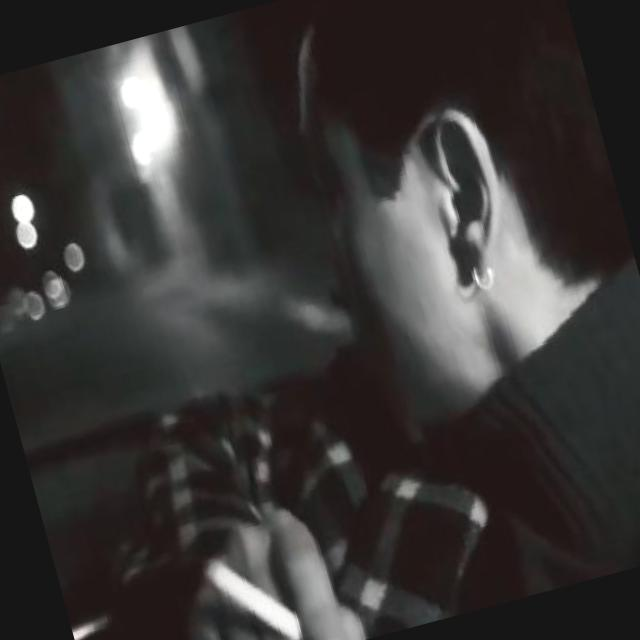smoke: (178, 518, 323, 640)
